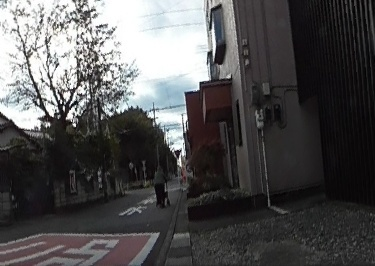person: (151, 165, 167, 205)
